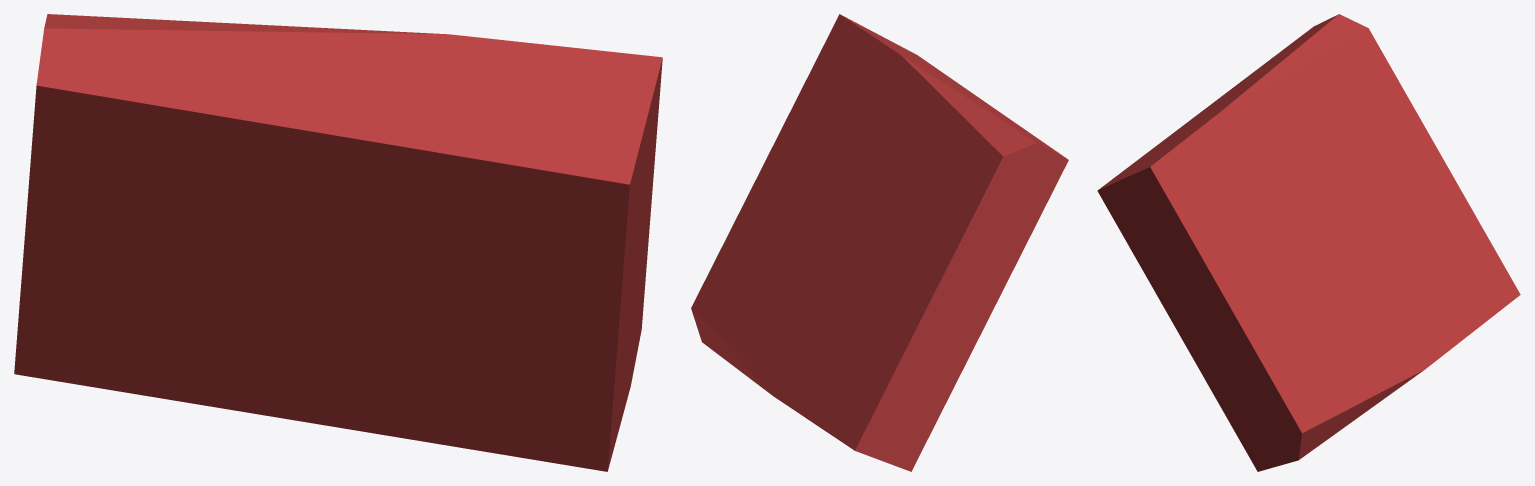
The model's file is ea_arch_wall03_rubble_01b_pre_lev1.glb.
3 renders of one model, left to right at view 1: azimuth 30°, elevation 25°; view 2: azimuth 150°, elevation 25°; view 3: azimuth 270°, elevation 25°, orthographic. The views are drawn at different scales.
Parts seen in each view (by area): view 1: ea_arch_wall03_rubble_01b_pre_lev1; view 2: ea_arch_wall03_rubble_01b_pre_lev1; view 3: ea_arch_wall03_rubble_01b_pre_lev1.
Boxes of the visible parts, x1,y1,x2,y2 form: ea_arch_wall03_rubble_01b_pre_lev1: (14, 14, 662, 471); ea_arch_wall03_rubble_01b_pre_lev1: (691, 14, 1068, 471); ea_arch_wall03_rubble_01b_pre_lev1: (1097, 14, 1520, 471).
Size of the model in its own units: 1.46 by 1.21 by 1.49.
Materials: 1 (1 with a texture image).
